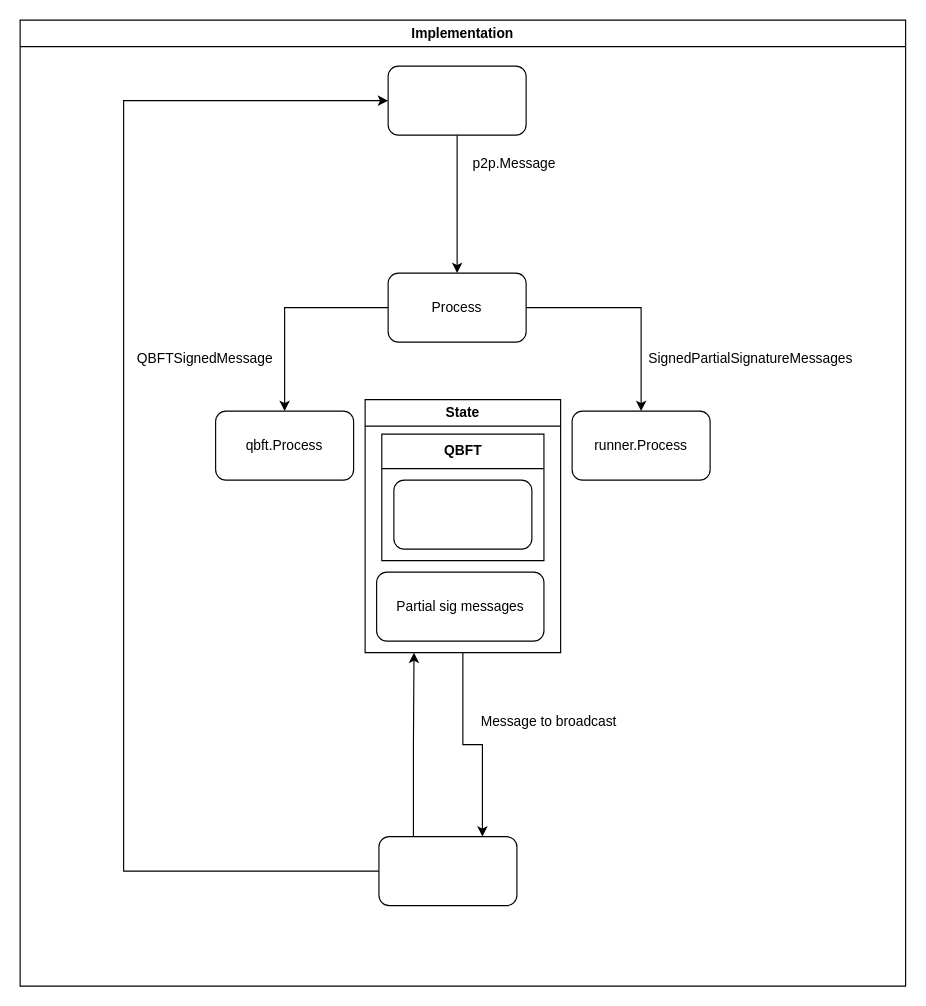
Some shapes in this 926 by 1006 pixel diagram are drawn without their labels. Each missing label, with the box of its shape:
Client: (378, 835, 517, 906)
P2P: (387, 65, 526, 135)
QBFT Messages: (393, 479, 532, 549)
